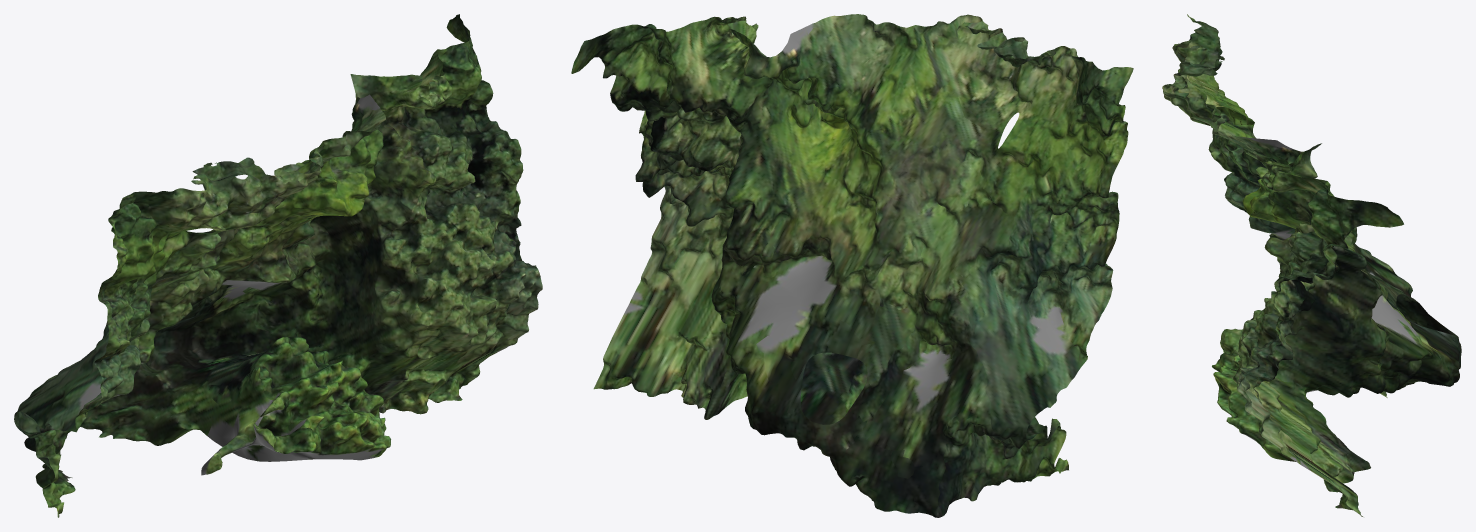
The model's file is Tile_+014_+000.fbx.
3 renders of one model, left to right at view 1: azimuth 30°, elevation 25°; view 2: azimuth 150°, elevation 25°; view 3: azimuth 270°, elevation 25°, orthographic. The views are drawn at different scales.
Parts seen in each view (by area): view 1: DefaultName; view 2: DefaultName; view 3: DefaultName.
Part boxes in pixels (x1,y1,x2,y2): DefaultName: (14, 14, 542, 517); DefaultName: (571, 14, 1133, 517); DefaultName: (1162, 14, 1461, 516).
Size of the model in its own units: 22.54 by 17.37 by 15.01.
